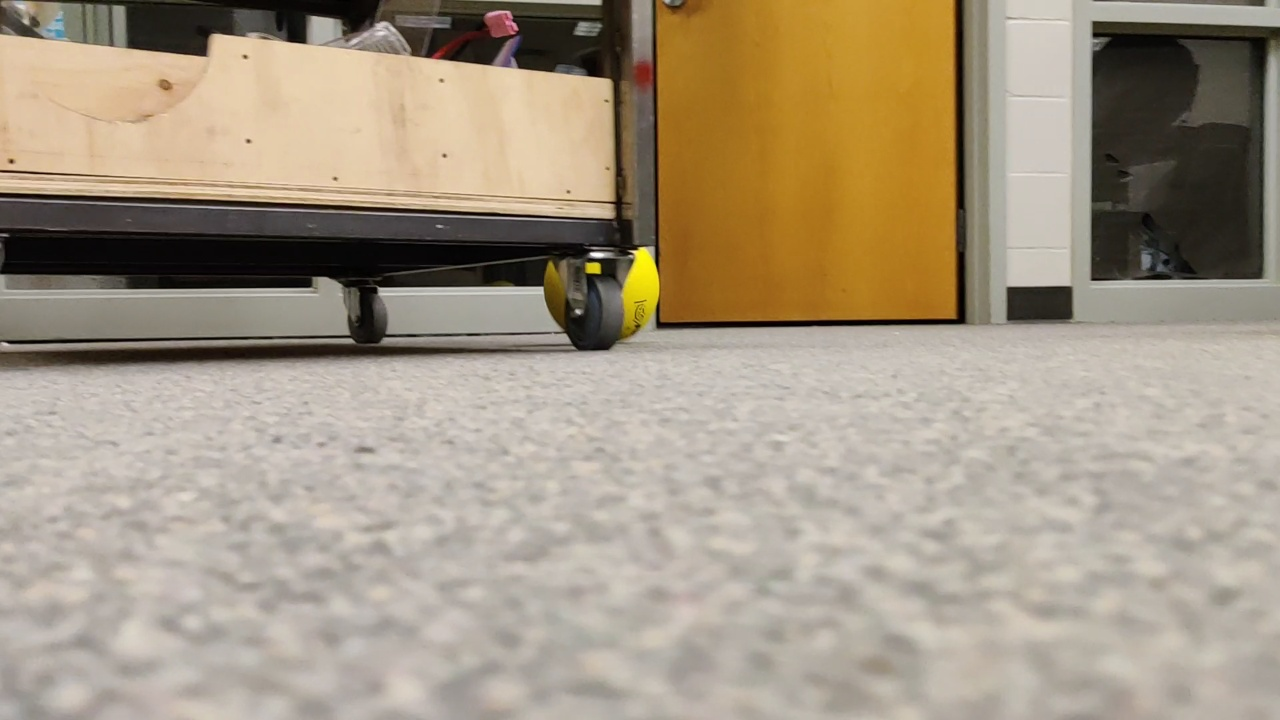Ball: (619, 245, 659, 331)
